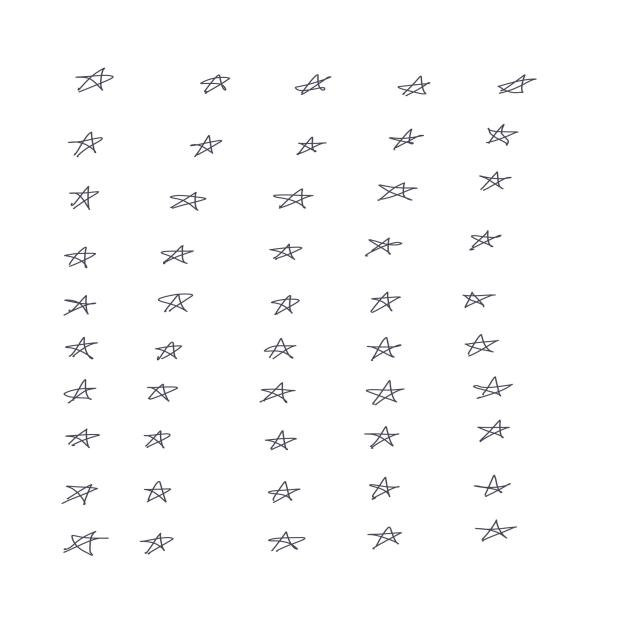Button: (361, 173, 440, 221), (173, 67, 249, 106), (52, 124, 126, 164), (282, 58, 338, 110), (153, 178, 219, 222), (60, 54, 119, 102), (487, 62, 548, 108), (254, 376, 318, 415), (388, 72, 450, 112), (260, 185, 328, 221), (140, 240, 211, 273), (288, 130, 350, 165), (451, 326, 506, 365), (133, 372, 184, 414), (56, 182, 116, 216), (252, 335, 308, 371), (146, 284, 200, 320), (359, 379, 417, 412), (456, 225, 512, 258), (58, 331, 103, 372), (57, 418, 111, 452), (376, 124, 432, 156), (258, 289, 317, 319), (469, 471, 515, 509), (463, 375, 519, 406), (247, 427, 306, 456), (450, 283, 500, 317), (476, 124, 524, 158), (358, 291, 414, 320), (257, 526, 310, 556), (143, 333, 188, 368), (56, 528, 106, 559), (54, 290, 102, 322), (55, 377, 102, 409), (256, 238, 309, 266), (467, 167, 516, 197), (59, 238, 101, 272), (133, 426, 181, 455), (351, 237, 414, 259), (366, 525, 410, 556), (364, 334, 406, 366), (466, 417, 508, 448), (266, 477, 306, 509), (362, 473, 402, 505), (63, 478, 100, 510), (134, 531, 178, 557), (186, 130, 230, 155), (473, 518, 511, 545), (358, 426, 404, 448), (143, 479, 173, 512)
